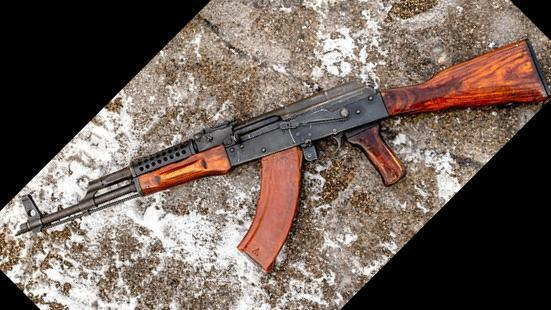larga: (14, 37, 551, 273)
